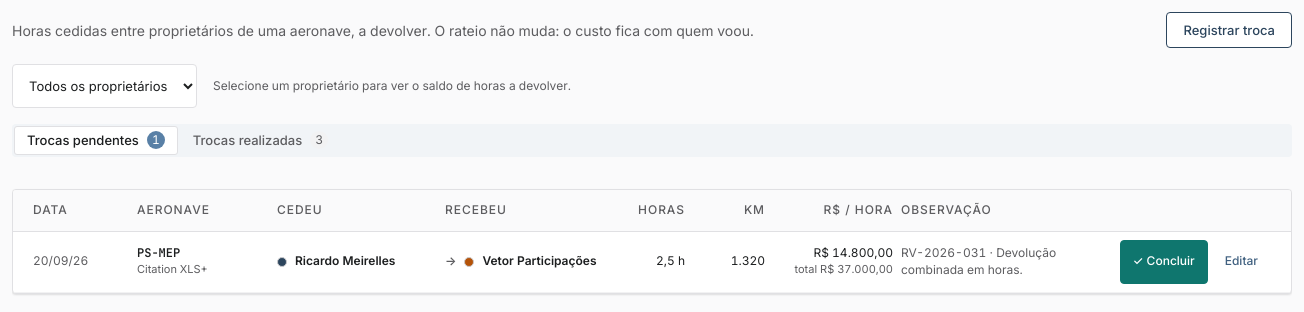
Test: PaginaDeTrocas › com proprietário no filtro, diz o saldo de horas dele
Expected: the text "RV-2026-031 · Devolução combinada em horas." is shown, [901,245,1056,277]
Select "Ricardo Meirelles" in the dropdown named "Filtrar por proprietário" at [104, 86], box [12,64,197,108]
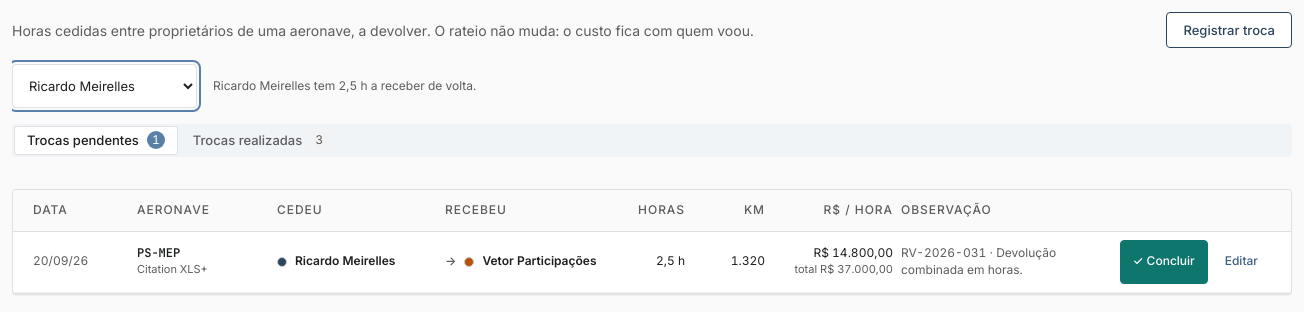
Expected: the text "Ricardo Meirelles tem 2,5 h a receber de volta." is shown, [213,78,476,93]
